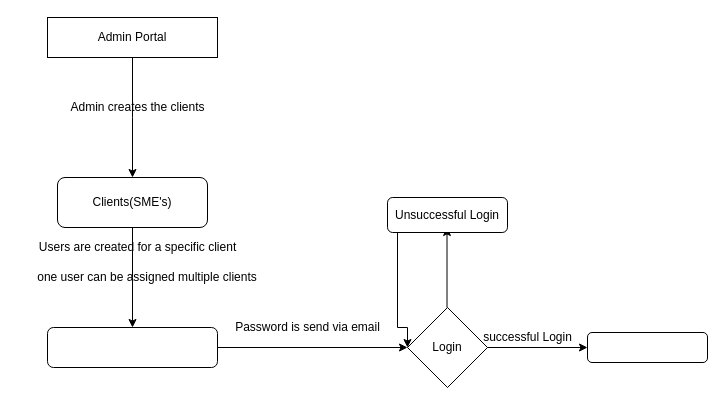
The diagram is 725 pixels wide and 405 high, and some of its shapes have lost their labels. Here are the shapes that lost their labels. From the top down, the box of each, then its label:
(46, 326, 218, 368): Users
(586, 332, 708, 362): User Interface
